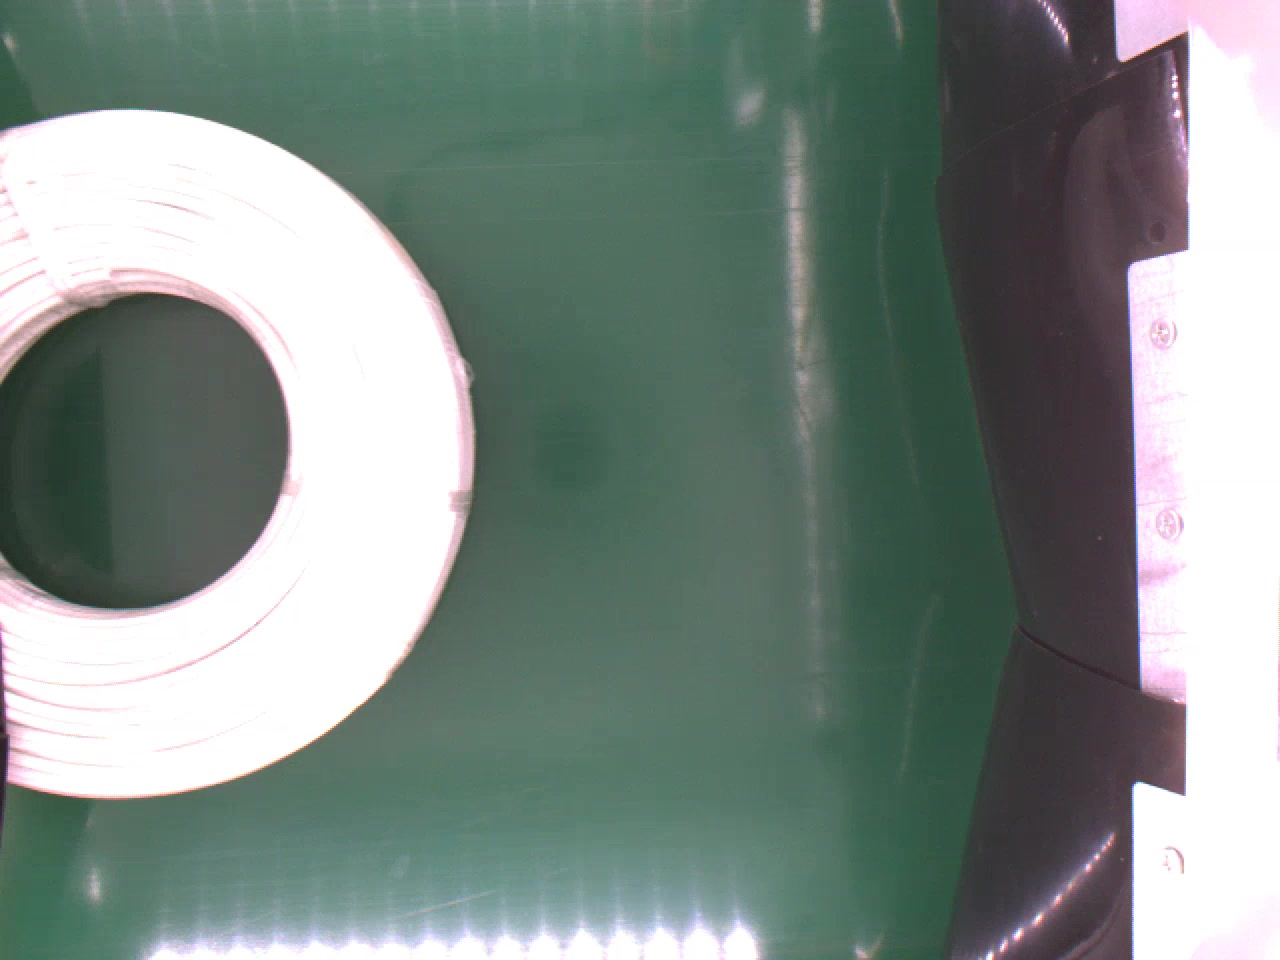white: (0, 103, 477, 806)
